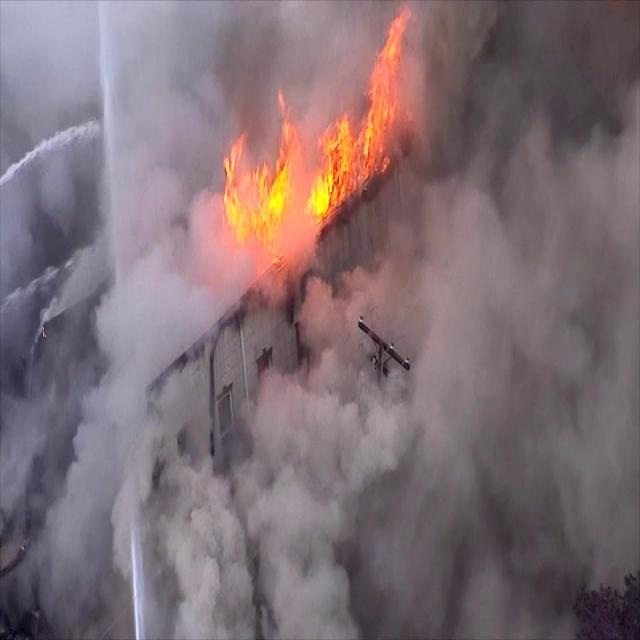Fire: (190, 37, 449, 227)
